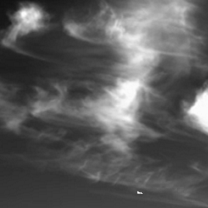Target: (136, 191, 143, 195)
